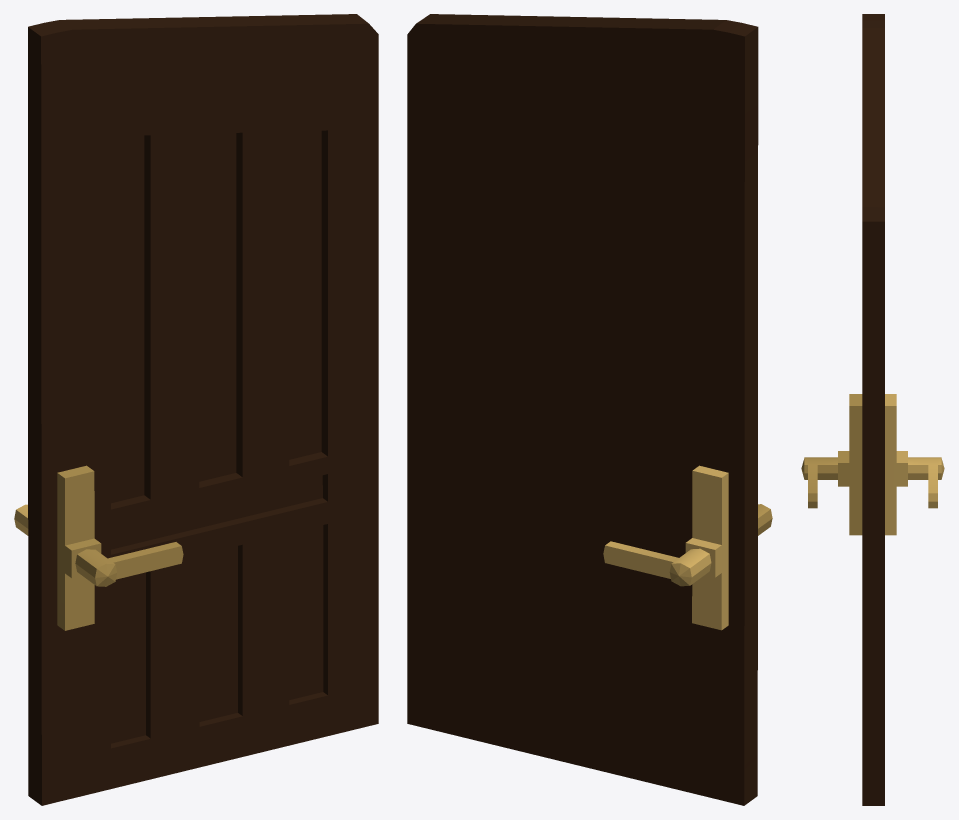
File: GrandDoorfix.fbx
3 views of the same model, side by side, from view 1: azimuth 30°, elevation 25°; view 2: azimuth 150°, elevation 25°; view 3: azimuth 270°, elevation 25° (orthographic). The views are drawn at different scales.
Visible parts, largest first — view 1: polySurface7; view 2: polySurface7; view 3: polySurface7.
Boxes of the visible parts, box(x1,y1,x2,y2) form: polySurface7: box(14, 14, 378, 805); polySurface7: box(407, 14, 772, 805); polySurface7: box(801, 14, 944, 805).
Size of the model in its own units: 122 by 267 by 53.08.
